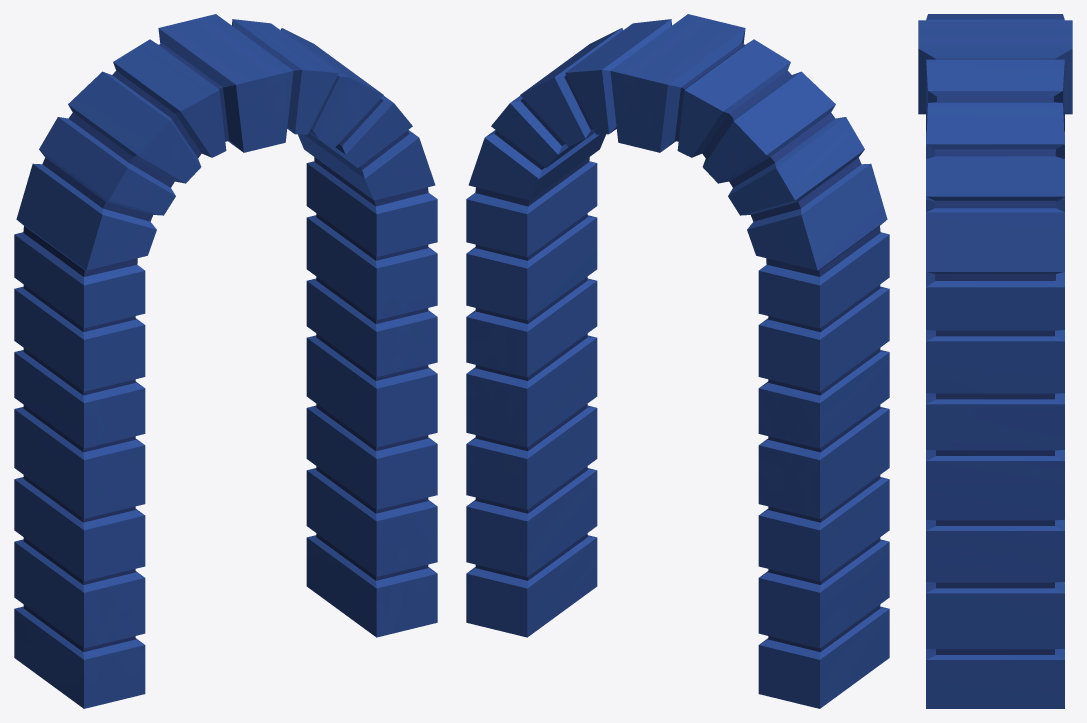
File: SM_DoorArch.fbx
The picture shows the model from 3 angles, left to right: view 1: azimuth 30°, elevation 25°; view 2: azimuth 150°, elevation 25°; view 3: azimuth 270°, elevation 25°; orthographic projection.
Visible parts, largest first — view 1: dörr; view 2: dörr; view 3: dörr.
Part boxes in pixels (<box>): dörr: <box>14,14,437,708</box>; dörr: <box>466,14,889,708</box>; dörr: <box>918,14,1072,708</box>.
Size of the model in its own units: 142 by 227 by 54.
